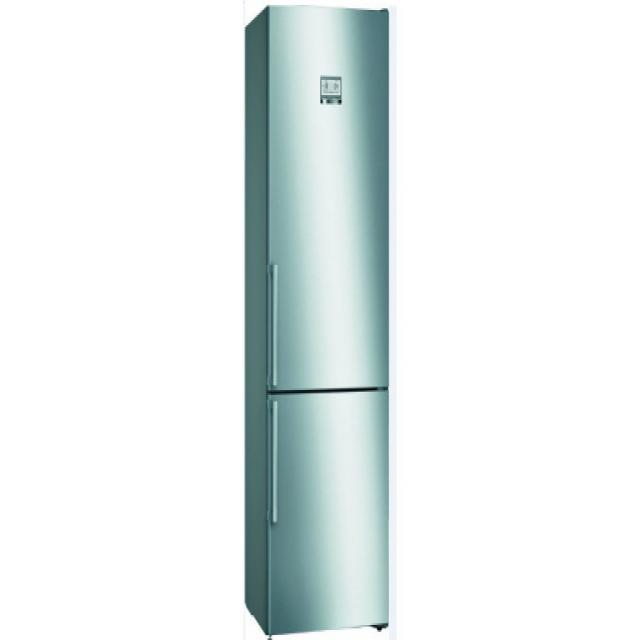refrigerator: (243, 4, 390, 626)
